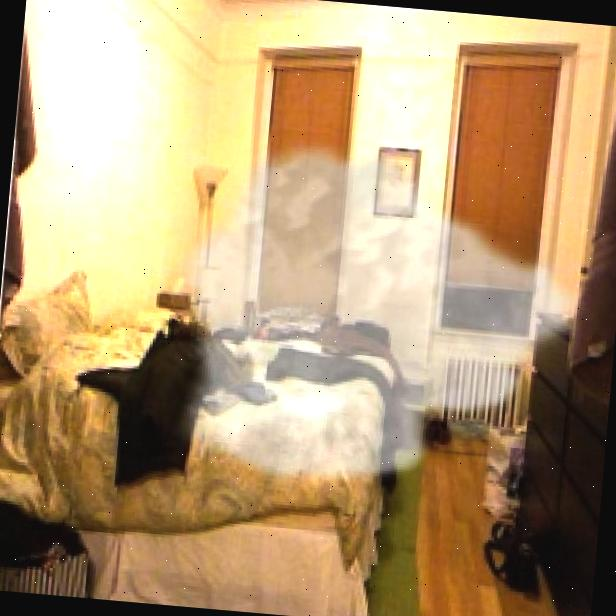smoke: (161, 121, 598, 512)
